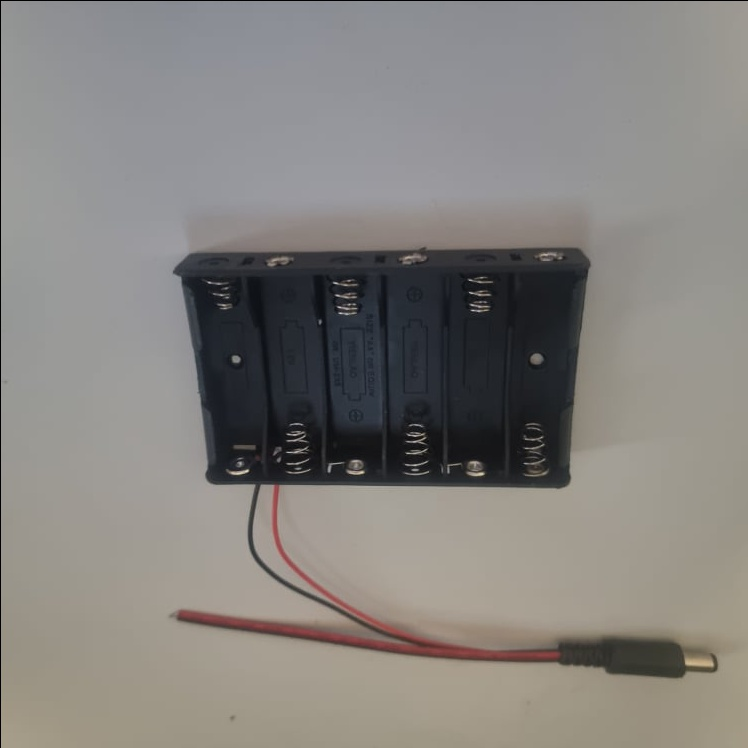BATTERY BOX: (170, 243, 587, 489)
